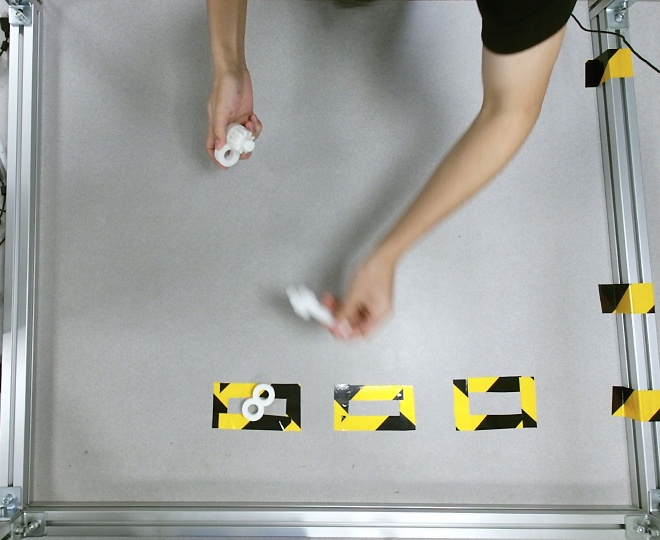stage_2: (212, 123, 256, 167)
